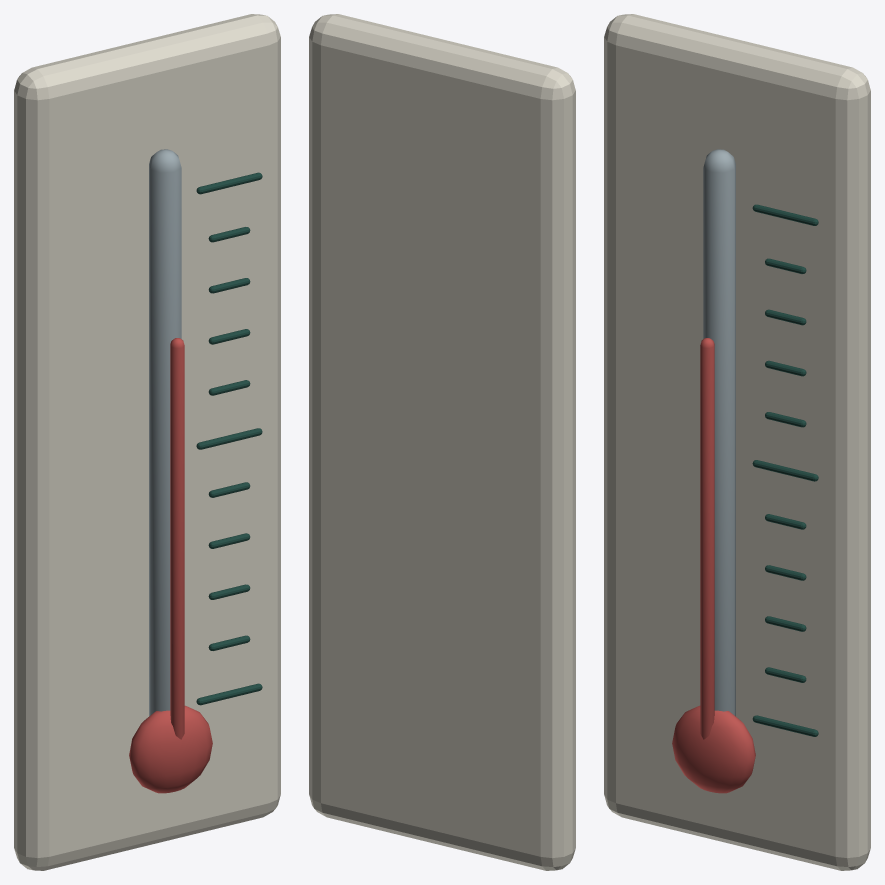
Rendered from thermometer.glb.
3 views of the same model, side by side, from view 1: azimuth 30°, elevation 25°; view 2: azimuth 150°, elevation 25°; view 3: azimuth 330°, elevation 25° (orthographic).
Parts seen in each view (by area): view 1: Ivory_board, Glass_stem, Red_mercury, Bulb, Tick.010, Tick, Tick.005; view 2: Ivory_board; view 3: Ivory_board, Glass_stem, Red_mercury, Bulb, Tick.005, Tick, Tick.010.
Boxes of the visible parts, <box> form: Ivory_board: <box>14,14,280,870</box>; Glass_stem: <box>149,149,181,716</box>; Red_mercury: <box>170,338,184,739</box>; Bulb: <box>129,705,212,793</box>; Tick.010: <box>196,172,262,194</box>; Tick: <box>196,683,262,705</box>; Tick.005: <box>196,428,262,449</box>; Ivory_board: <box>309,14,575,870</box>; Ivory_board: <box>604,14,870,870</box>; Glass_stem: <box>703,149,735,716</box>; Red_mercury: <box>700,338,714,739</box>; Bulb: <box>672,705,755,793</box>; Tick.005: <box>752,460,818,481</box>; Tick: <box>752,715,818,736</box>; Tick.010: <box>752,204,818,225</box>.
Bounding box in the file's own units: 0.16 × 0.47 × 0.0495.
